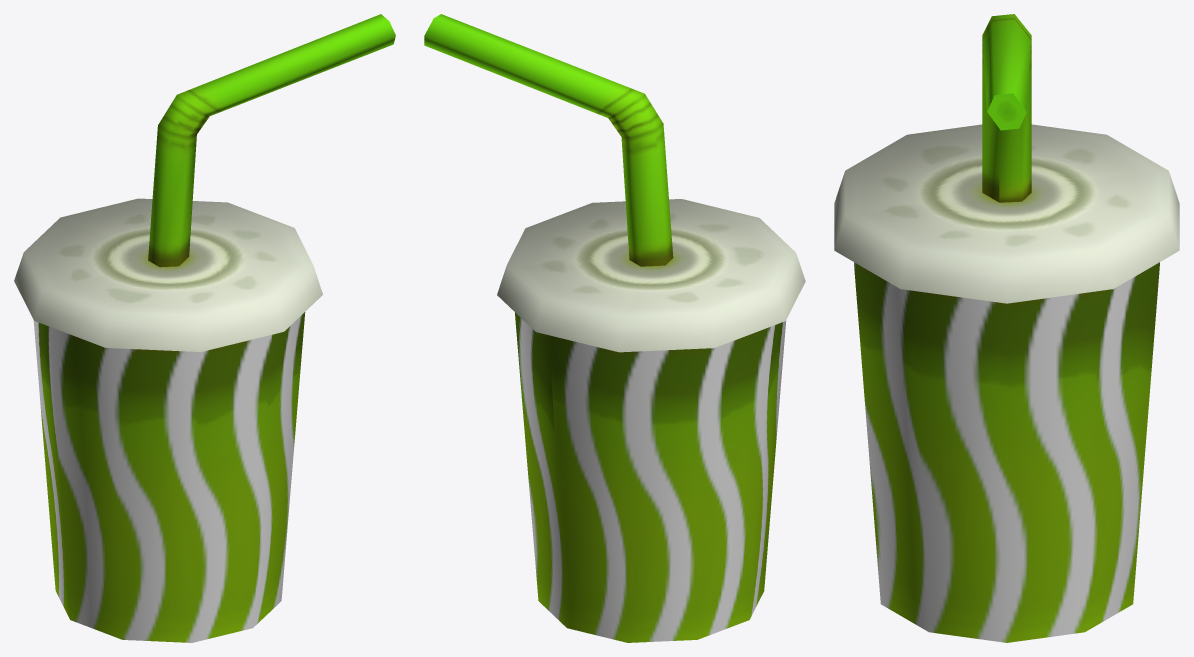
File: CafeFood01_11.FBX
3 renders of one model, left to right at view 1: azimuth 30°, elevation 25°; view 2: azimuth 150°, elevation 25°; view 3: azimuth 270°, elevation 25°, orthographic. The views are drawn at different scales.
Parts seen in each view (by area): view 1: CafeFood01_11; view 2: CafeFood01_11; view 3: CafeFood01_11.
Part boxes in pixels (x1,y1,x2,y2): CafeFood01_11: [14, 14, 395, 642]; CafeFood01_11: [424, 14, 805, 642]; CafeFood01_11: [834, 14, 1179, 642].
Size of what is drawn, in the model's own units: 0.1691 by 0.2388 by 0.1213.
